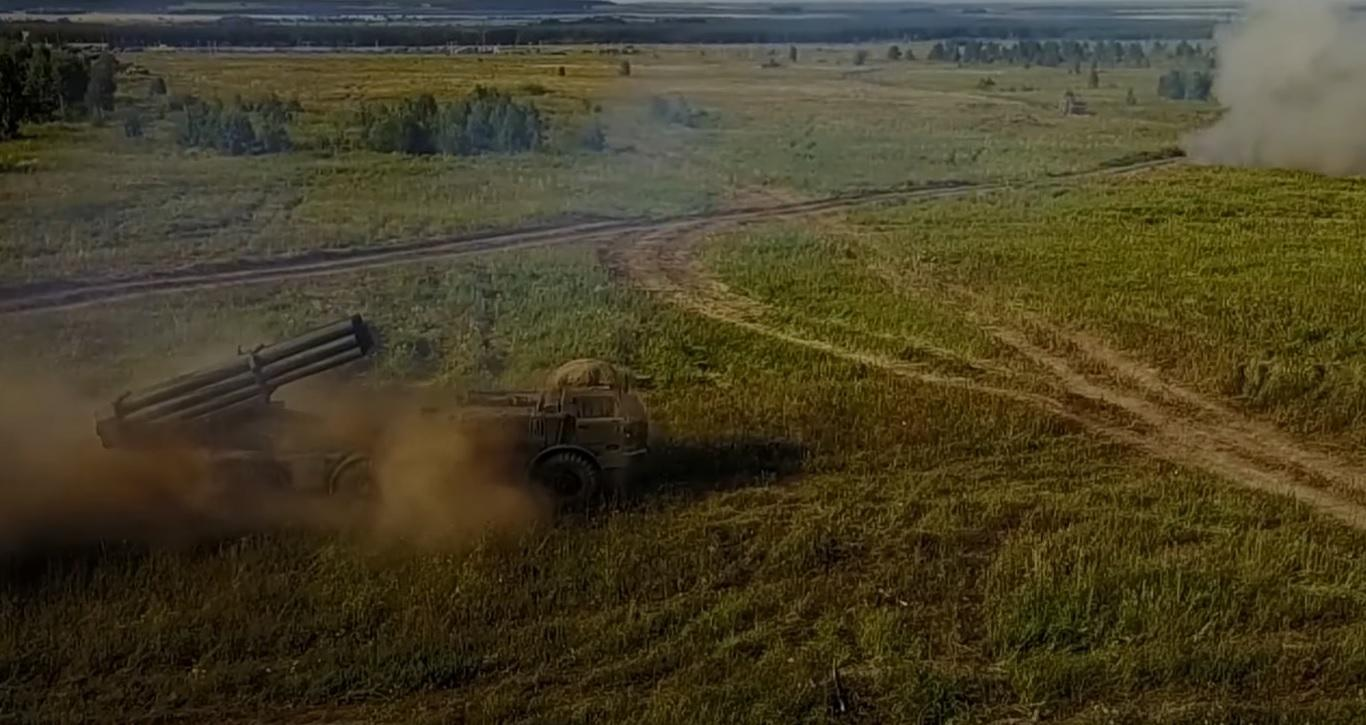MIL_SAM_TEL: (97, 302, 642, 522)
